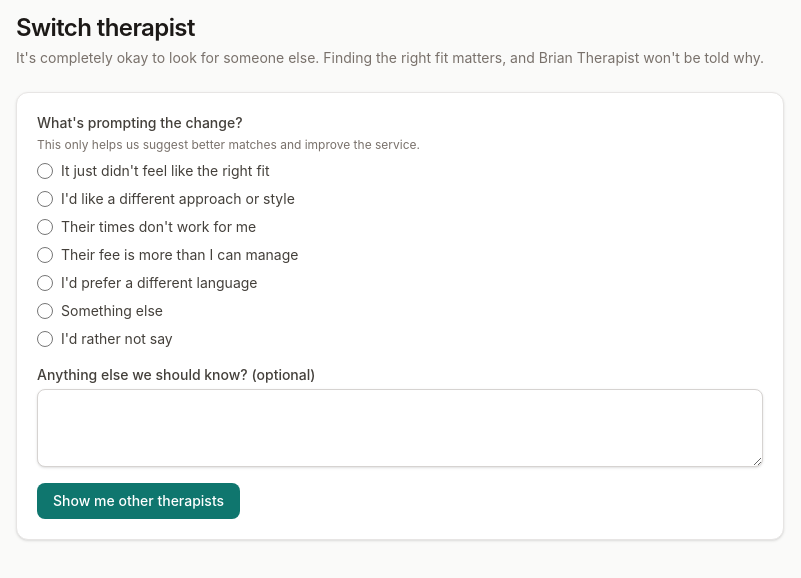
Scenario: SwitchTherapistPage › asks for a reason (with an opt-out) before searching
This screenshot has width=801, height=578.
What coordinates should you click on to do the following:
click the button "Show me other therapists"
I would click on:
 (139, 501)
Its box is [37,483,240,519].
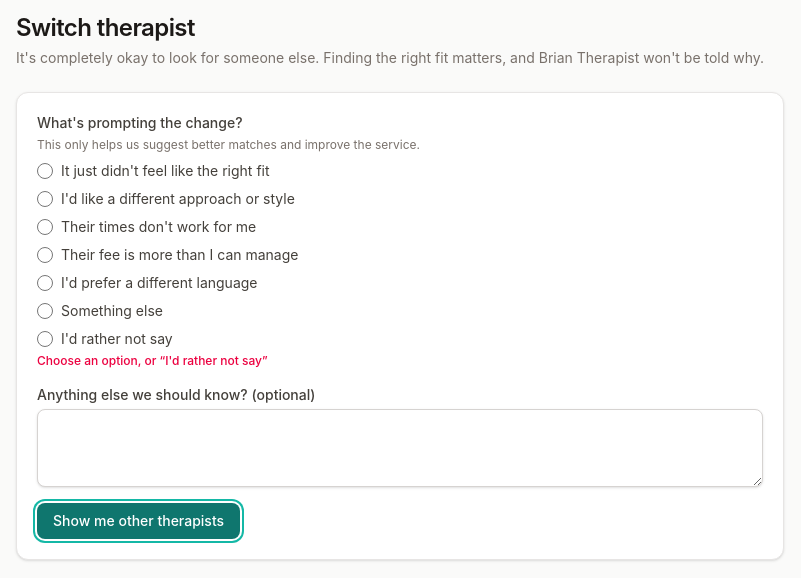
Check: the text "Choose an option, or “I'd rather not say”" is shown, box [37,353,268,368]
